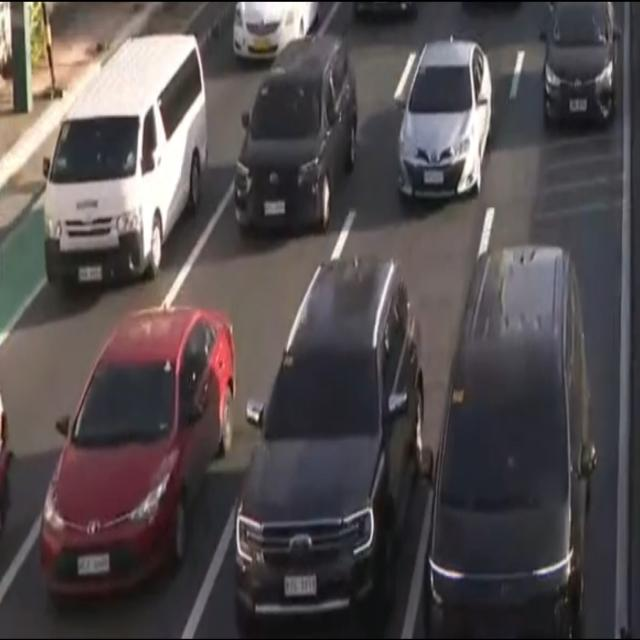SUV: (429, 182, 635, 640), (217, 231, 434, 639), (227, 17, 361, 250)
Sedan: (14, 281, 250, 608), (379, 22, 513, 209), (536, 0, 625, 137)
Van: (33, 6, 219, 296)
